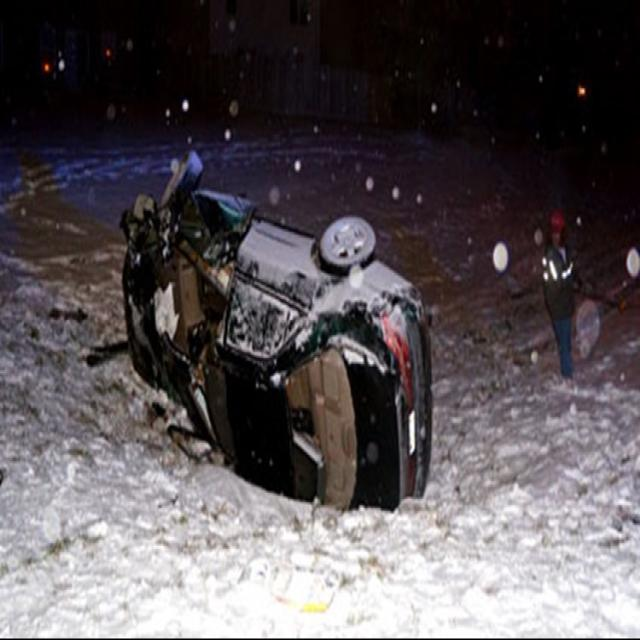Accident: (120, 153, 434, 512)
